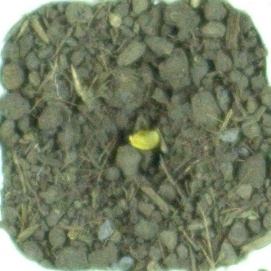pepper seed: (45, 48, 208, 201)
